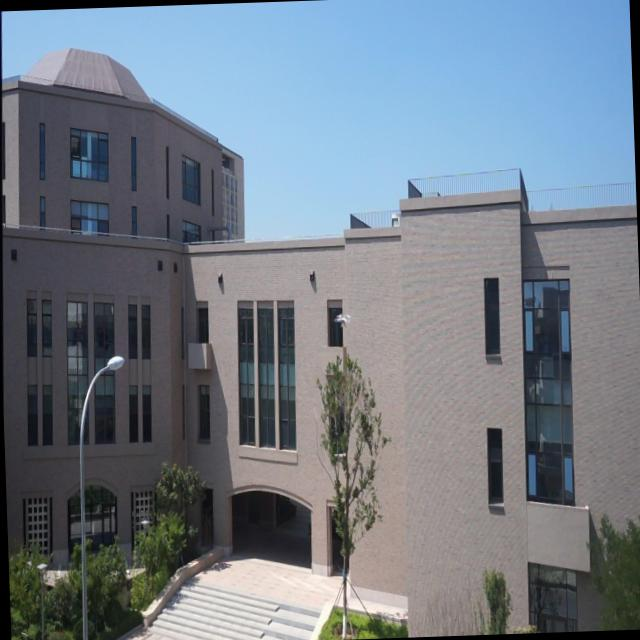drone: (335, 310, 352, 326)
